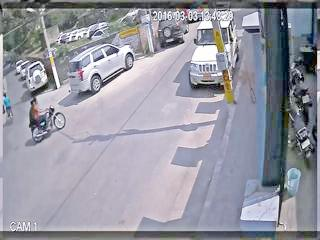Car: (190, 17, 239, 87), (67, 41, 135, 91), (157, 19, 186, 48), (24, 61, 49, 92), (16, 60, 31, 78), (188, 8, 207, 22), (57, 32, 71, 44)
Motor: (27, 96, 67, 142)
